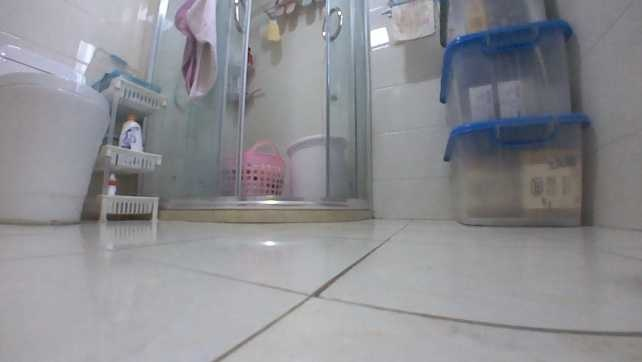door_sill: (155, 197, 372, 223)
toilet: (0, 41, 112, 225)
